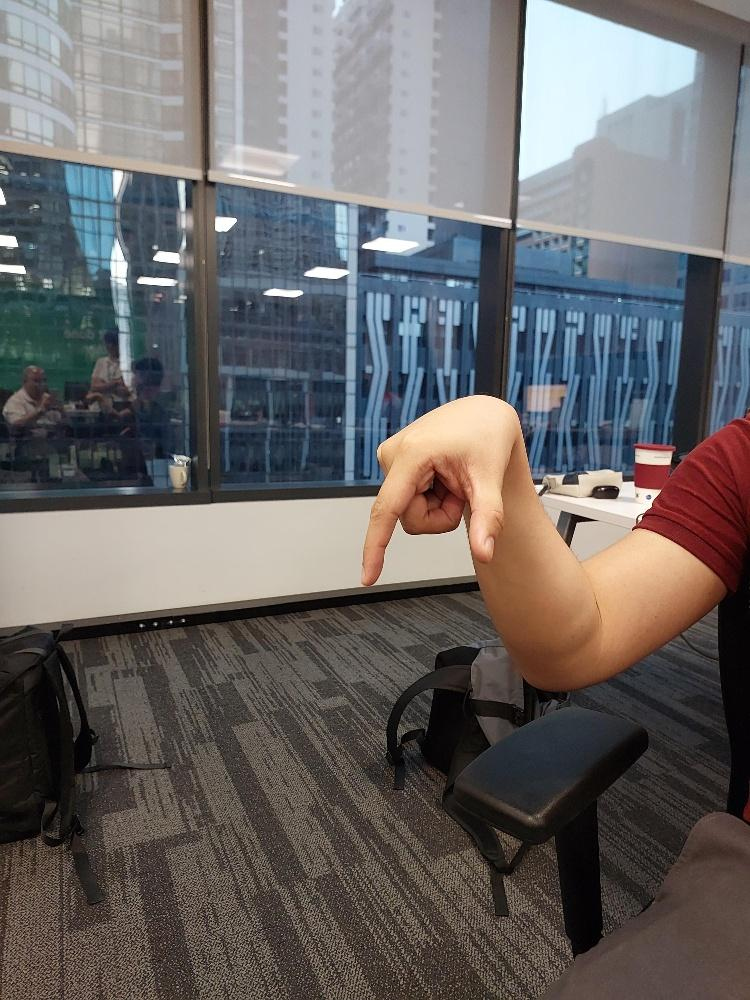q: (356, 390, 521, 588)
